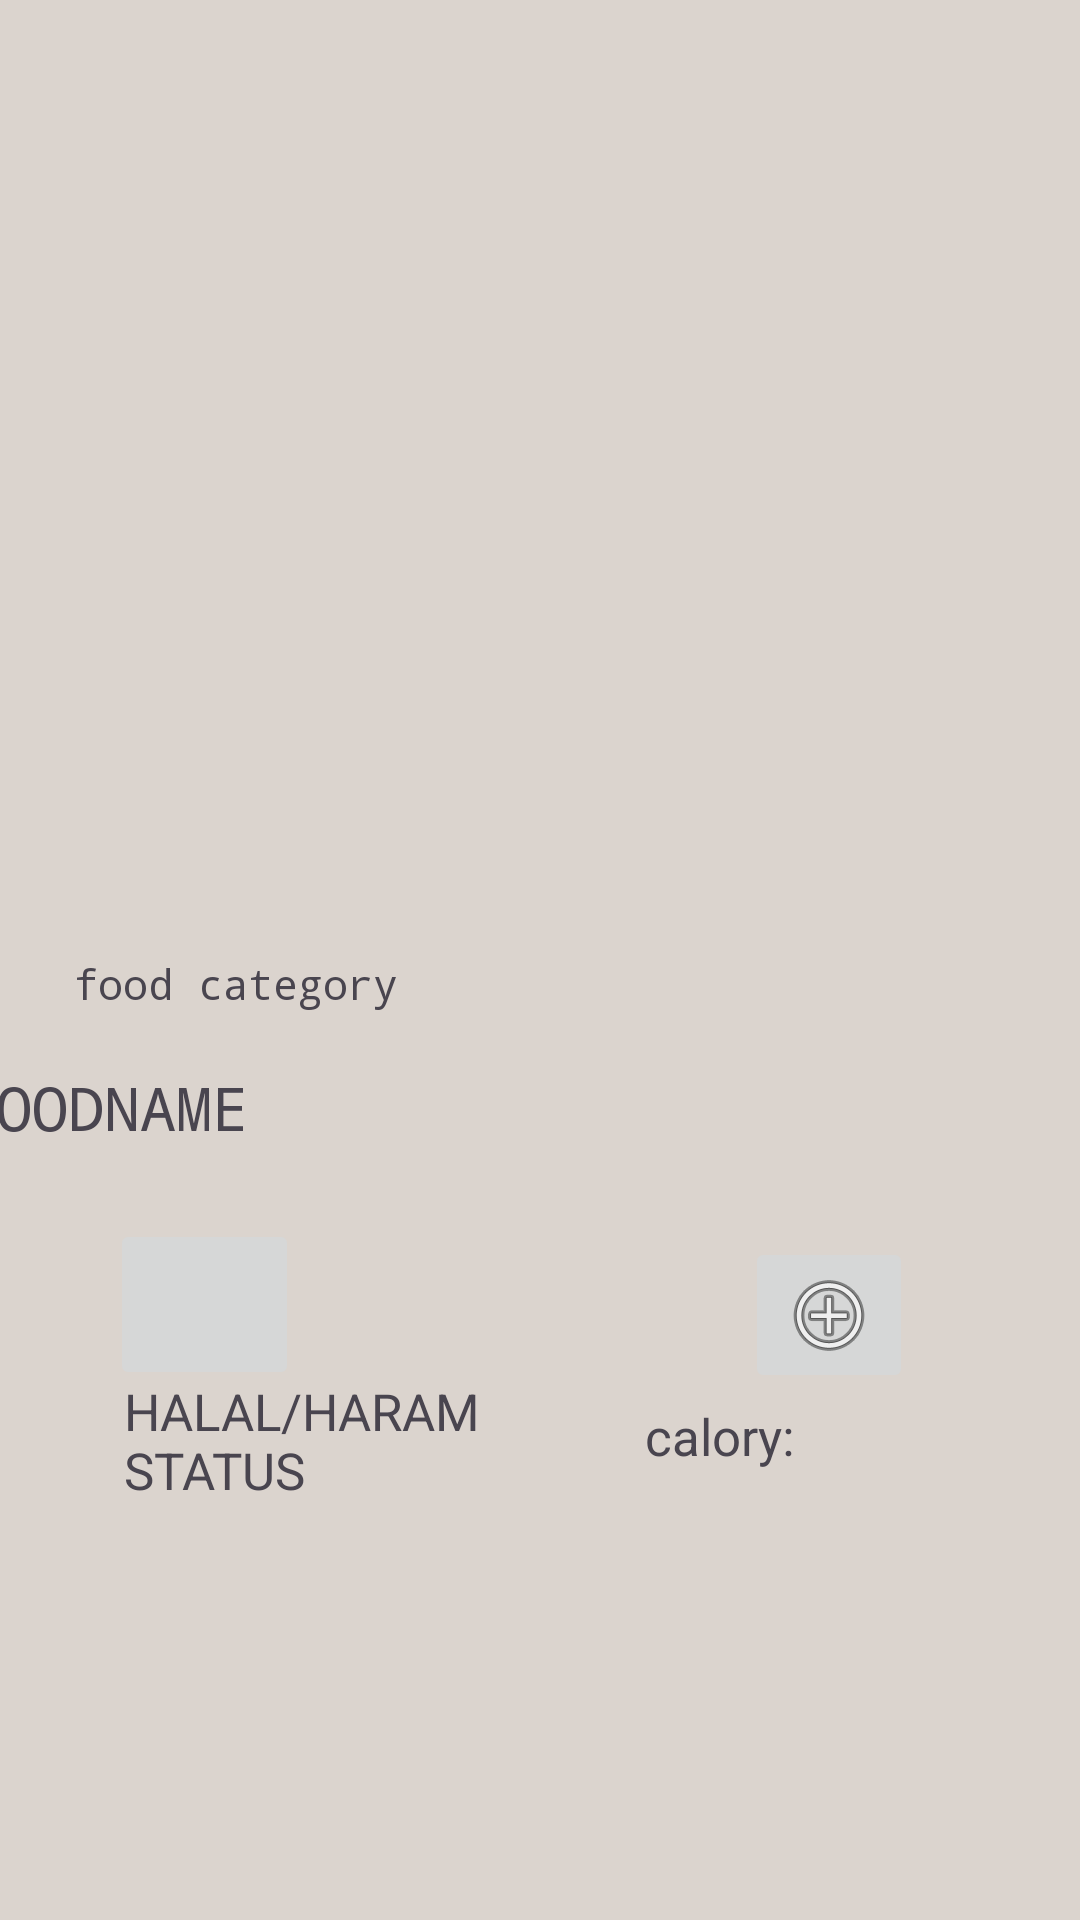

Icon click points for this 1080px×1920px phone screenshot, format (x=x, y=y):
add: (x=829, y=1315)
